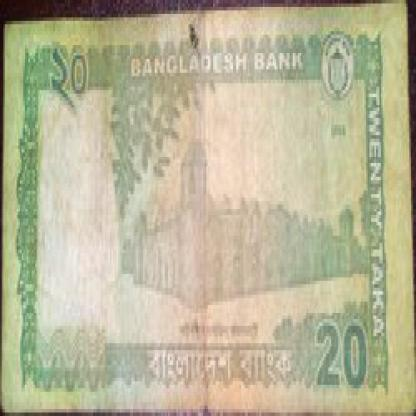Twenty: (310, 309, 372, 395), (42, 42, 112, 114)
